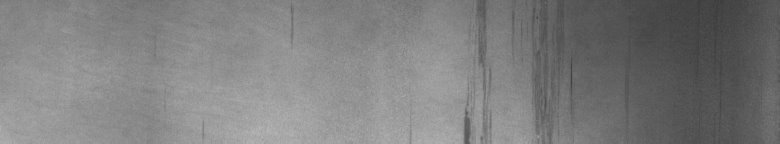ka: (456, 4, 573, 136)
